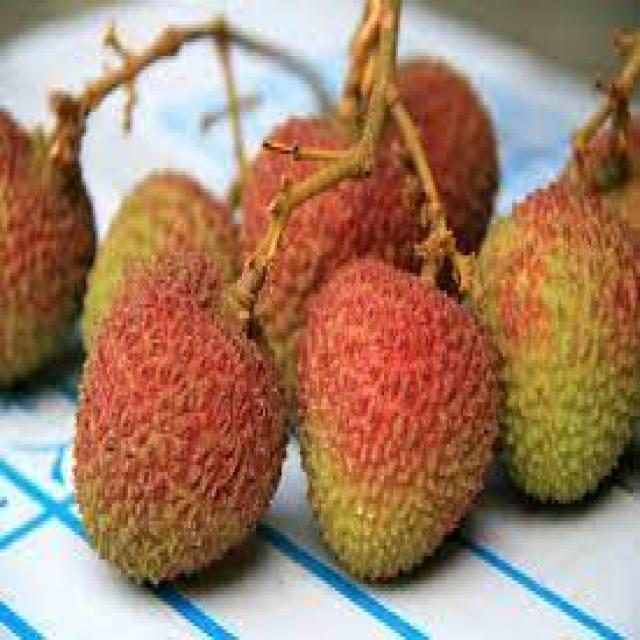lychee: (72, 259, 514, 592)
